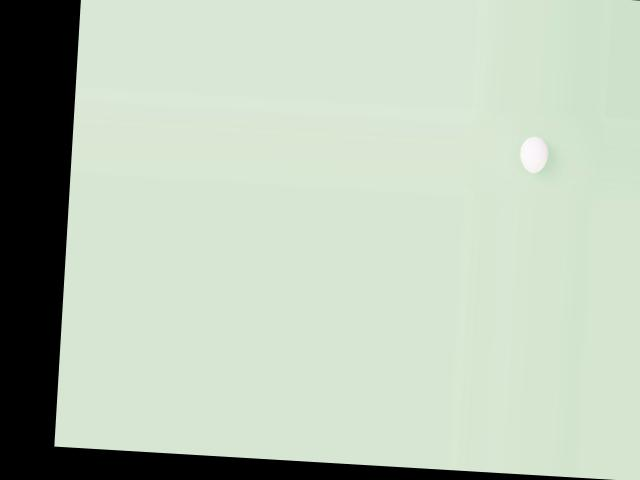egg: (518, 134, 549, 173)
